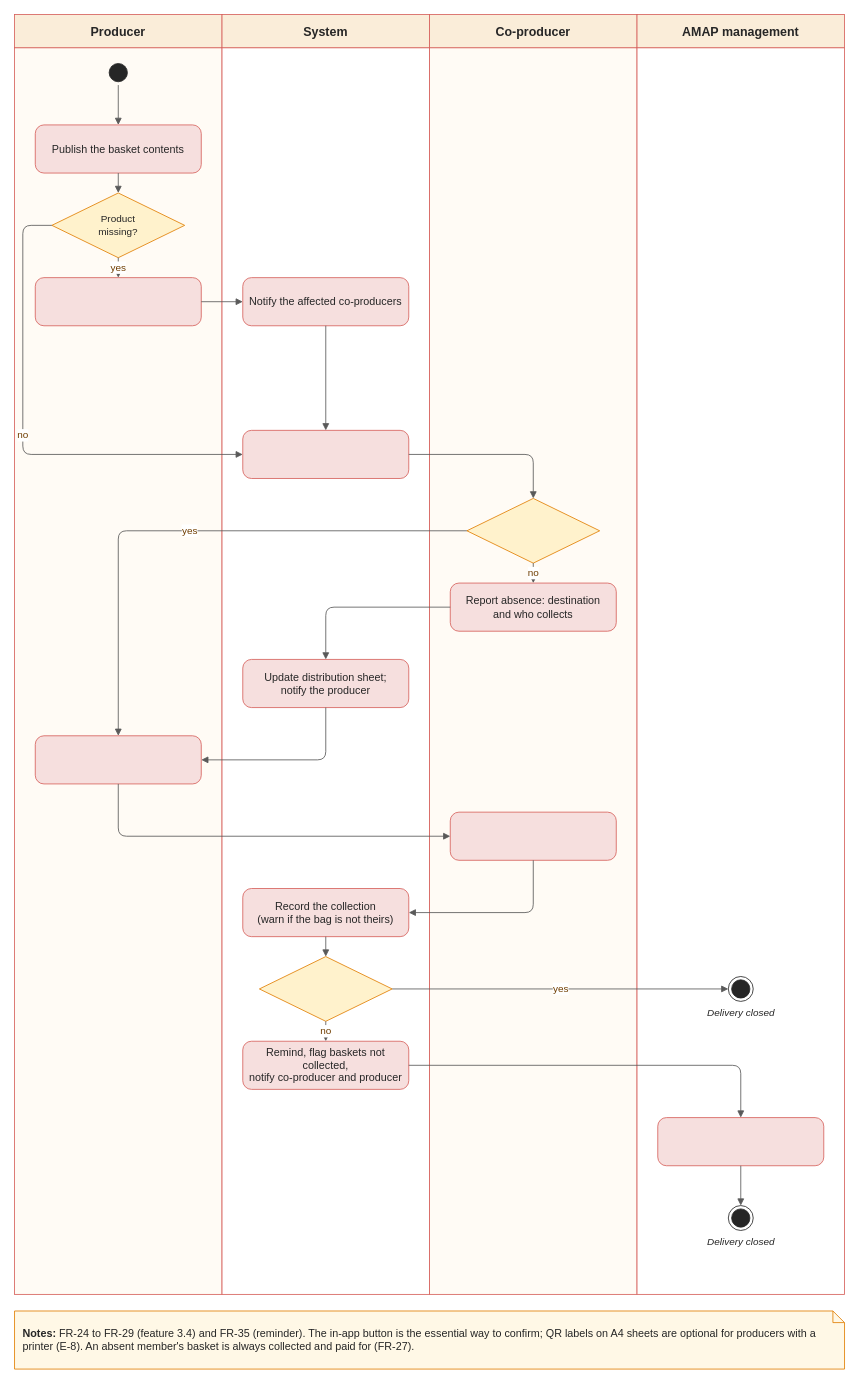
Image size: 859x1384. Some labels were removed from this diagram. Each missing label, with the box of its shape:
All baskets confirmed?: (259, 956, 392, 1021)
Can collect the basket?: (466, 498, 600, 563)
Collect the basket and confirm: button in the app or QR code: (449, 811, 616, 860)
Confirm on behalf of members without a phone: (657, 1117, 824, 1166)
Print labels (optional) and leave the bags at the delivery point: (34, 735, 201, 784)
Record missing item and compensation (optional news): (34, 277, 201, 326)
Send reminder the day before: what to collect, place and time: (242, 430, 409, 478)
